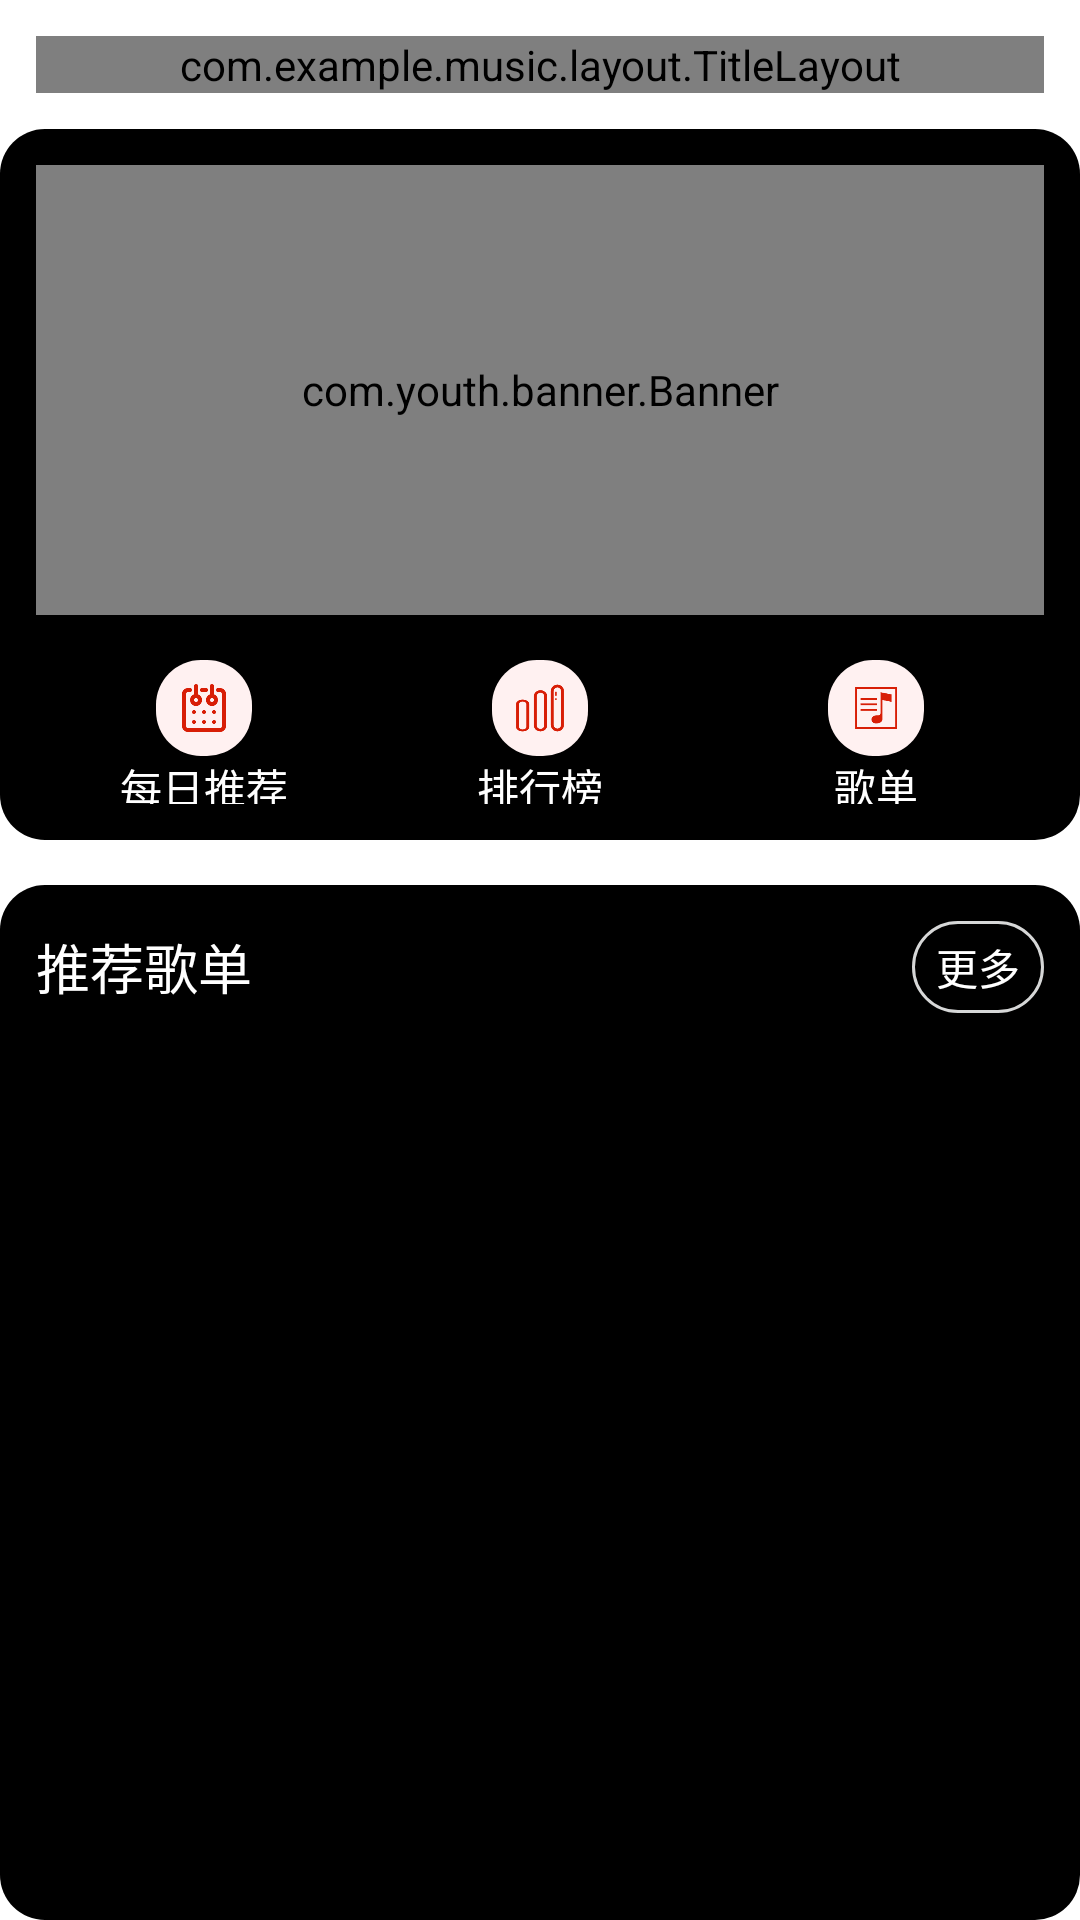

Screen size 1080 x 1920. Icon name, then its box in pixels as bbox=[x1, y1, x2, y2]:
calendar: bbox=[156, 660, 252, 756]
